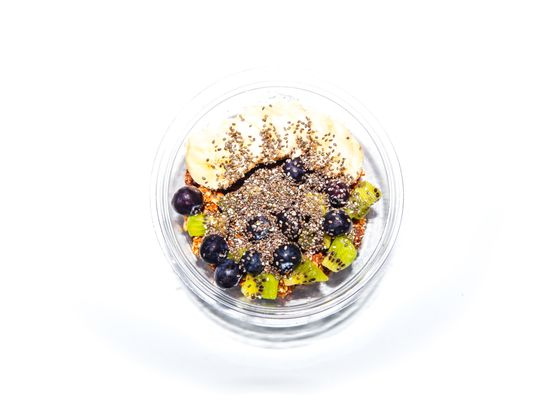sushi: (149, 78, 405, 332)
